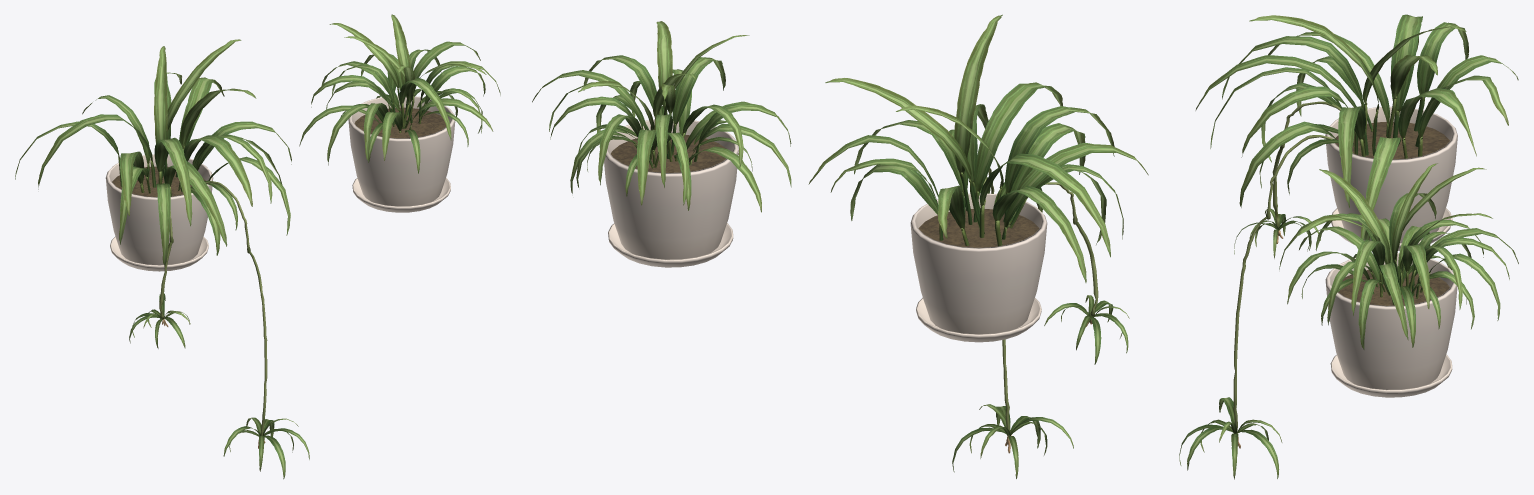
Rendered from spider_plant.glb.
3 views of the same model, side by side, from view 1: azimuth 30°, elevation 25°; view 2: azimuth 150°, elevation 25°; view 3: azimuth 270°, elevation 25° (orthographic). The views are drawn at different scales.
Parts seen in each view (by area): view 1: SpiderPlant, SpiderPlant_B; view 2: SpiderPlant, SpiderPlant_B; view 3: SpiderPlant, SpiderPlant_B.
Part boxes in pixels (left/top/right/bottom): SpiderPlant: left=15, top=39, right=309, bottom=479; SpiderPlant_B: left=299, top=14, right=500, bottom=212; SpiderPlant: left=808, top=14, right=1148, bottom=478; SpiderPlant_B: left=532, top=21, right=791, bottom=267; SpiderPlant: left=1179, top=14, right=1518, bottom=479; SpiderPlant_B: left=1279, top=163, right=1518, bottom=397.
Bounding box in the file's own units: 1.74 × 1.34 × 0.9187.
1 material, 1 textured.
